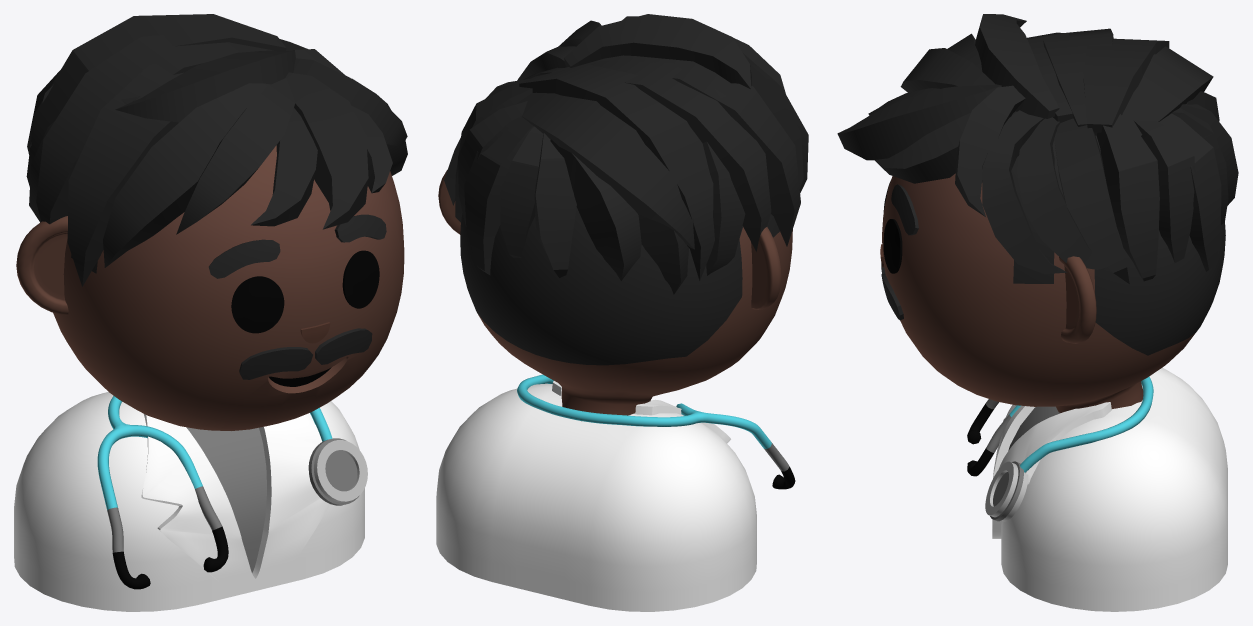
File: man_health_worker.gltf
The picture shows the model from 3 angles, left to right: view 1: azimuth 30°, elevation 25°; view 2: azimuth 150°, elevation 25°; view 3: azimuth 270°, elevation 25°; orthographic projection. The views are drawn at different scales.
Parts seen in each view (by area): view 1: Cube.957, Roundcube.075, Sphere.036, Circle.544, Circle.545, Circle.541, Cylinder.069, Circle.546, Circle.547, Circle.543; view 2: Cube.957, Sphere.036, Roundcube.075, Circle.545, Cylinder.069, Circle.544; view 3: Cube.957, Roundcube.075, Sphere.036, Circle.544, Circle.545, Cylinder.069, Circle.546, Circle.541, Circle.543.
Part boxes in pixels (box(x1,y1,x2,y2)): Cube.957: box(26, 14, 407, 286); Roundcube.075: box(53, 145, 404, 430); Sphere.036: box(14, 392, 364, 611); Circle.544: box(141, 414, 330, 588); Circle.545: box(97, 395, 332, 589); Circle.541: box(231, 250, 379, 333); Cylinder.069: box(16, 216, 68, 315); Circle.546: box(308, 438, 367, 505); Circle.547: box(239, 328, 372, 379); Circle.543: box(208, 214, 386, 278); Cube.957: box(444, 14, 808, 294); Sphere.036: box(436, 383, 756, 611); Roundcube.075: box(460, 207, 792, 421); Circle.545: box(517, 374, 795, 489); Cylinder.069: box(438, 170, 781, 309); Circle.544: box(552, 381, 730, 443); Cube.957: box(837, 14, 1238, 283); Roundcube.075: box(882, 111, 1225, 412); Sphere.036: box(1001, 367, 1227, 611); Circle.544: box(992, 402, 1111, 538); Circle.545: box(967, 376, 1153, 476); Cylinder.069: box(1059, 256, 1096, 343); Circle.546: box(985, 461, 1028, 521); Circle.541: box(883, 180, 902, 273); Circle.543: box(891, 184, 918, 235).
Size of the model in its own units: 1.76 by 2.43 by 1.77.
Materials: 2 (2 with a texture image).
